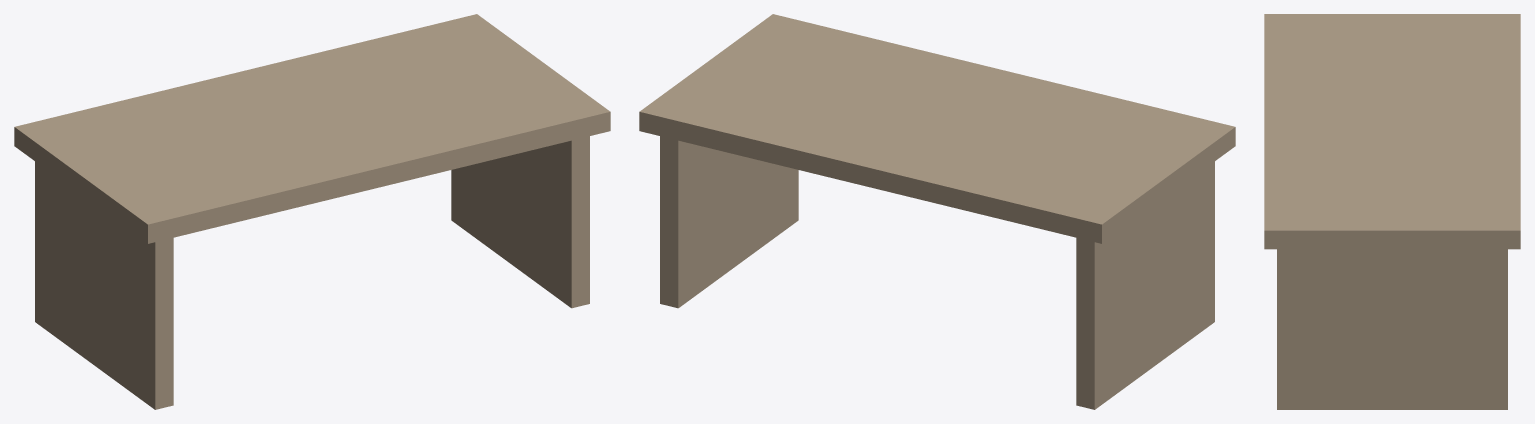
The model's file is table-2x1.glb.
3 renders of one model, left to right at view 1: azimuth 30°, elevation 25°; view 2: azimuth 150°, elevation 25°; view 3: azimuth 270°, elevation 25°, orthographic. The views are drawn at different scales.
Parts seen in each view (by area): view 1: table-2x1; view 2: table-2x1; view 3: table-2x1.
Boxes of the visible parts, x1=… form: table-2x1: x1=14, y1=14, x2=610, y2=409; table-2x1: x1=639, y1=14, x2=1235, y2=409; table-2x1: x1=1264, y1=14, x2=1520, y2=409.
Size of the model in its own units: 2 by 0.8 by 1.
